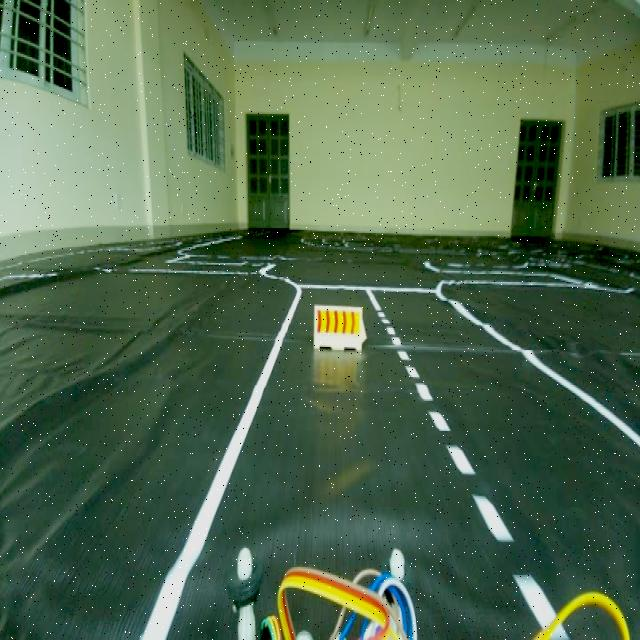roadblock: (308, 294, 372, 362)
